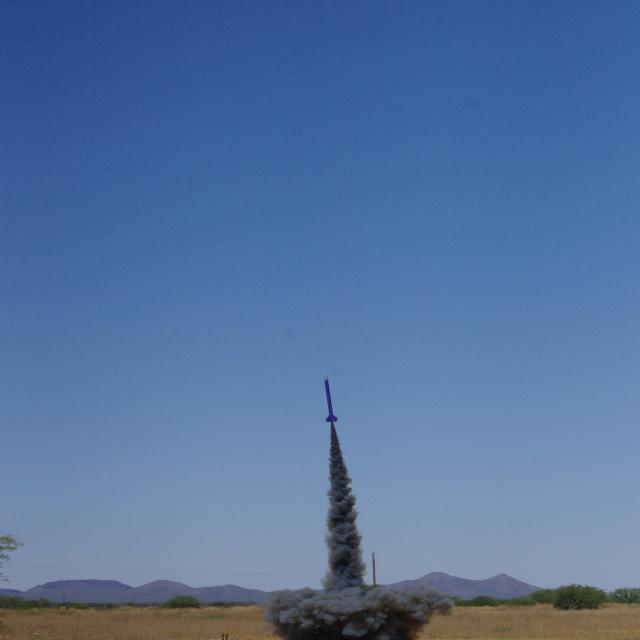Rocket: (324, 372, 339, 422)
